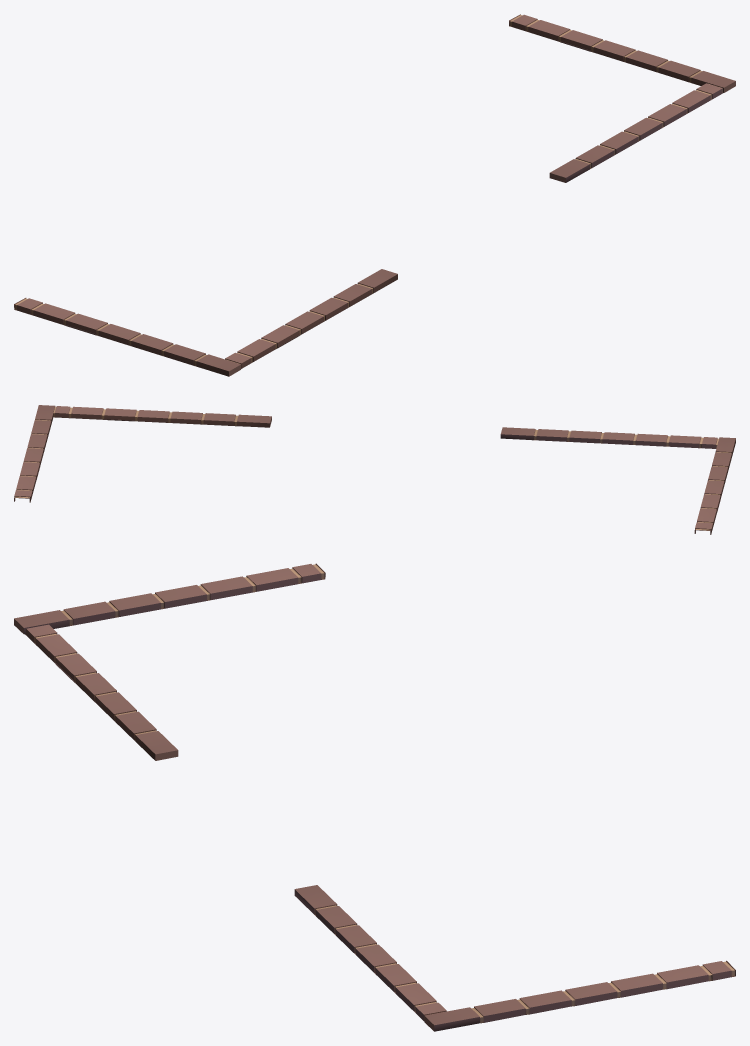
Rendered from templewateredge.glb.
3 views of the same model, one above another, from view 1: azimuth 30°, elevation 25°; view 2: azimuth 150°, elevation 25°; view 3: azimuth 270°, elevation 25° (orthographic). The views are drawn at different scales.
Visible parts, largest first — view 1: temple.002; view 2: temple.002; view 3: temple.002.
Boxes of the visible parts, x1,y1,x2,y2 form: temple.002: (14,14,735,376); temple.002: (14,405,735,534); temple.002: (14,563,735,1031).
Bounding box in the file's own units: 21.92 × 0.1549 × 14.47.
Materials: 1 (1 with a texture image).
